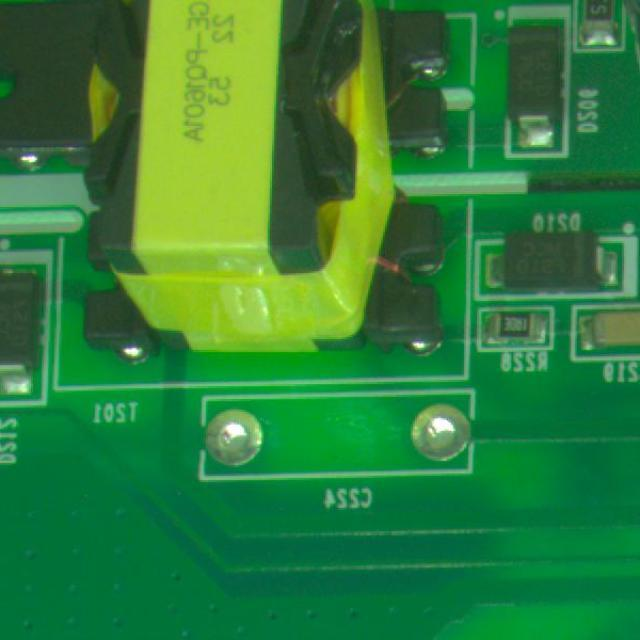Insufficient solder: (400, 392, 486, 473), (202, 403, 280, 474)
